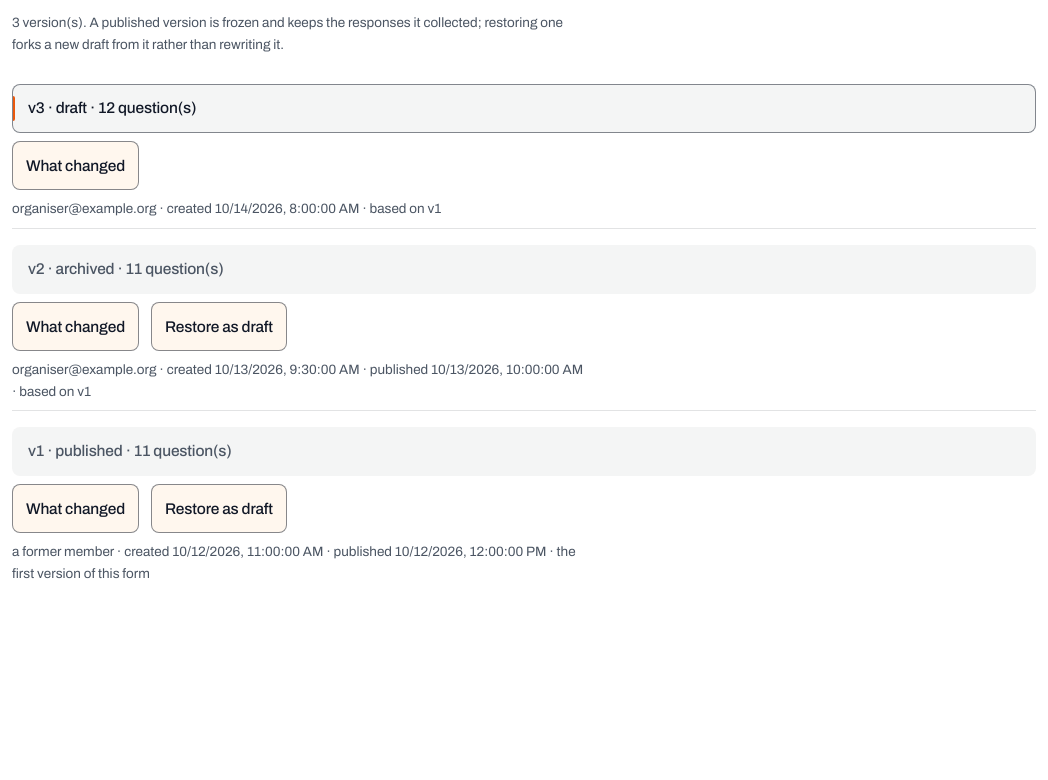
Test: the version history › shows the comparison the API computed, sentence for sentence
The width and height of the screenshot is (1048, 780).
Click the 1st button "What changed".
click(76, 165)  # box [12,141,139,190]
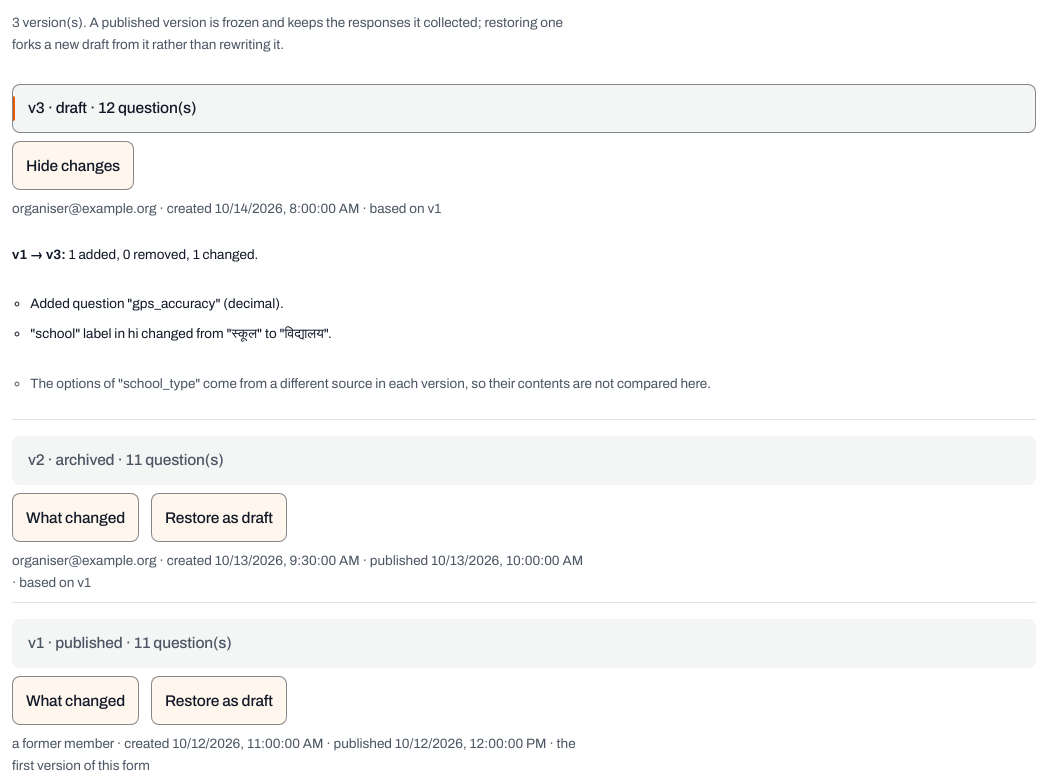
Expected: the text "v1 → v3:" is shown, [12,247,66,262]
Expected: the text "1 added, 0 removed, 1 changed." is shown, [69,247,258,262]
Expected: the text "Added question \"gps_accuracy\" (decimal)." is shown, [30,296,284,312]
